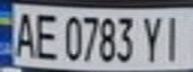0: (60, 11, 84, 62)
3: (115, 12, 139, 64)
7: (78, 12, 100, 63)
8: (97, 12, 118, 63)
A: (9, 8, 39, 60)
E: (30, 8, 60, 61)
I: (160, 11, 190, 63)
Y: (139, 11, 169, 63)
